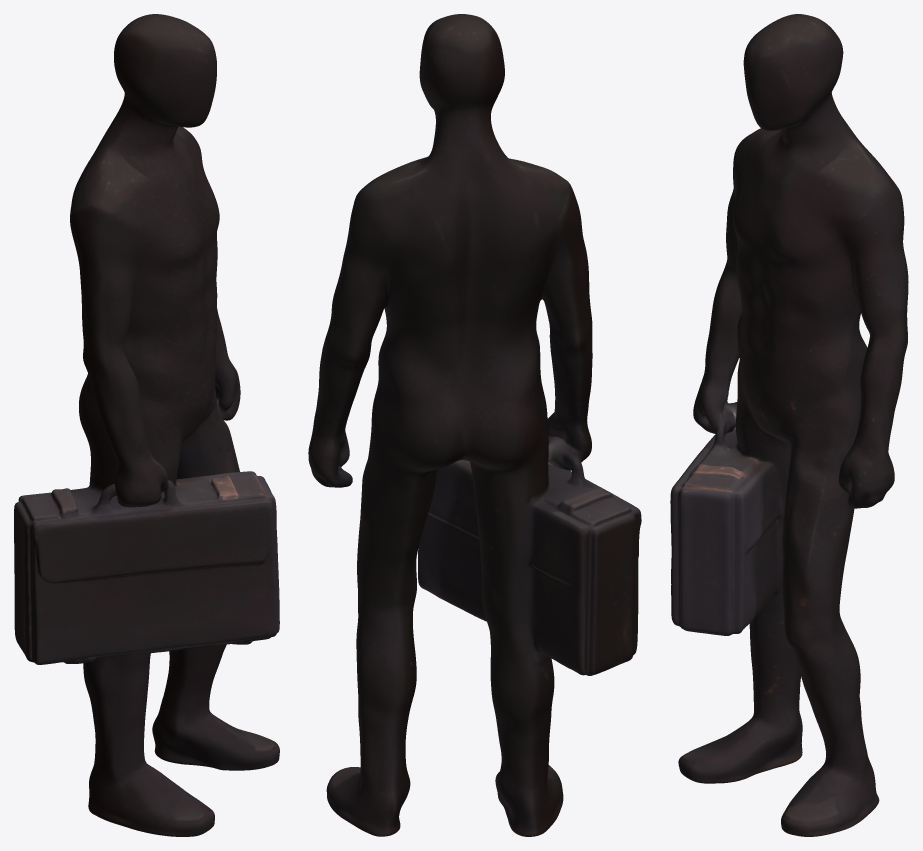
Rendered from businessman-simplified.glb.
The picture shows the model from 3 angles, left to right: view 1: azimuth 30°, elevation 25°; view 2: azimuth 150°, elevation 25°; view 3: azimuth 270°, elevation 25°; orthographic projection. The views are drawn at different scales.
Visible parts, largest first — view 1: world; view 2: world; view 3: world.
Part boxes in pixels (x1,y1,x2,y2): world: (14,14,279,836); world: (308,14,641,836); world: (670,14,908,836).
Size of the model in its own units: 0.7348 by 2 by 0.5625.
Materials: 1 (1 with a texture image).
